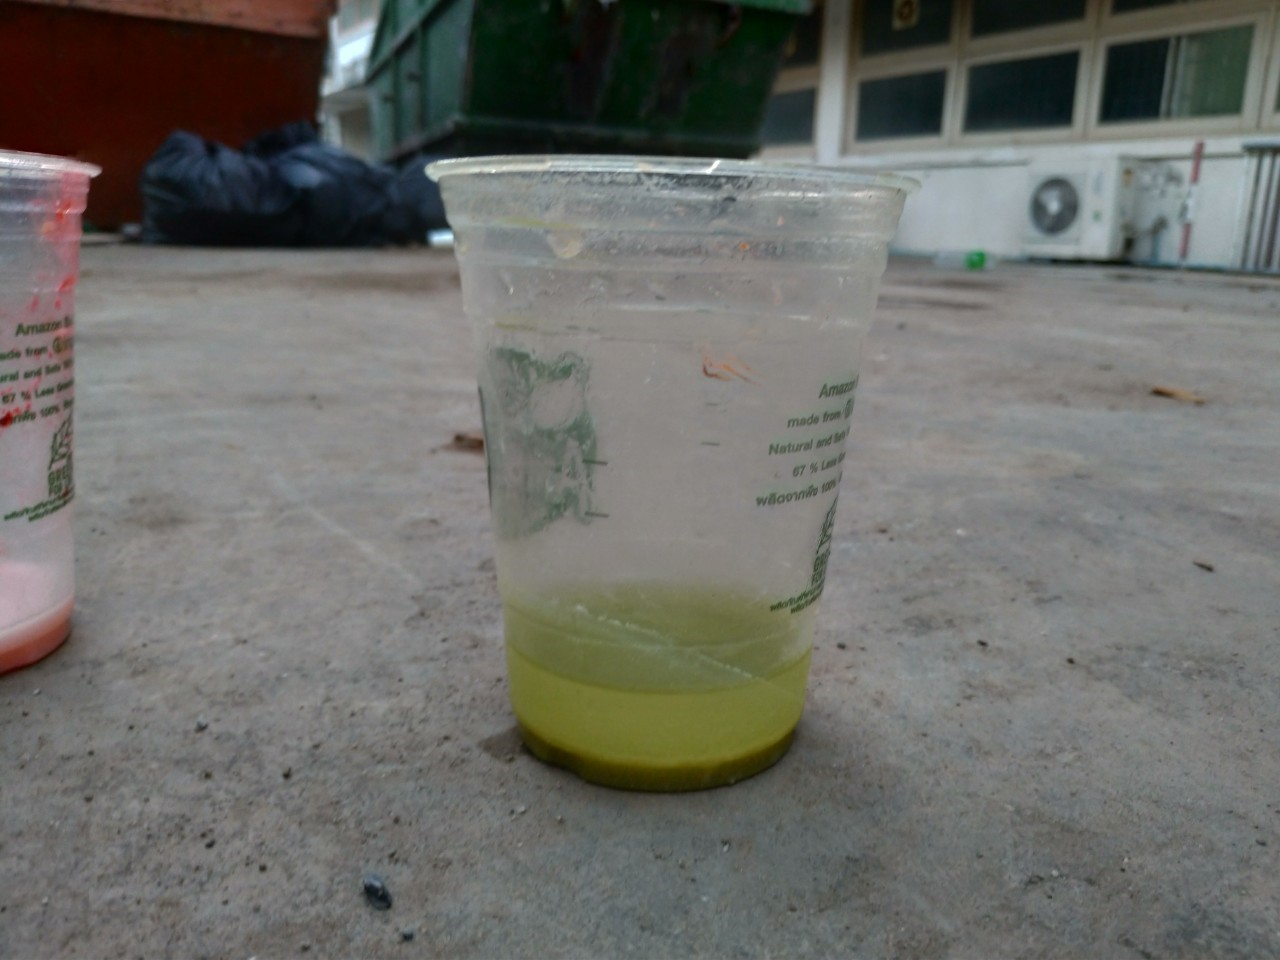PlasticCup: (424, 137, 926, 793)
